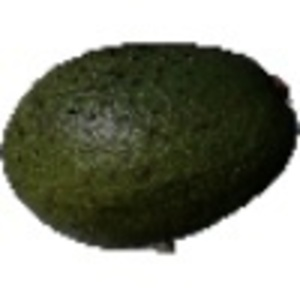abacate: (5, 37, 297, 242)
